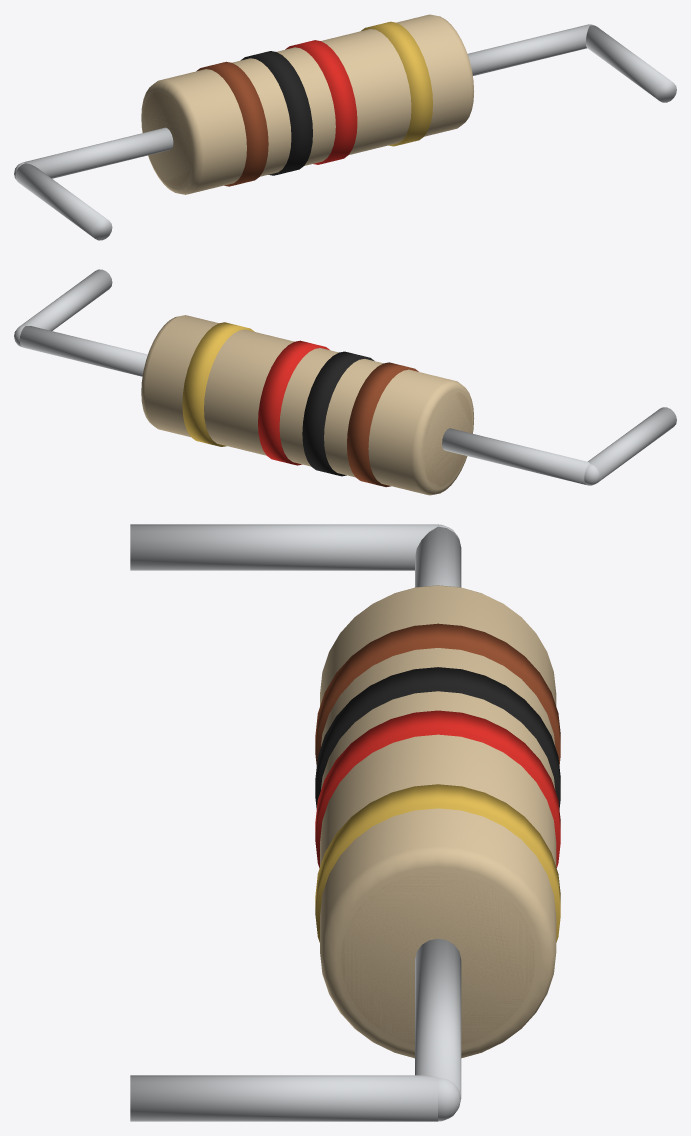
Rendered from resistors.glb.
The picture shows the model from 3 angles, top to bottom: view 1: azimuth 30°, elevation 25°; view 2: azimuth 150°, elevation 25°; view 3: azimuth 270°, elevation 25°; orthographic projection. The views are drawn at different scales.
Visible parts, largest first — view 1: Resistor_Body, Resistor_Lead_Left, Resistor_Band_3, Resistor_Band_1, Resistor_Band_4, Resistor_Band_2, Resistor_Lead_Right, Resistor_Lead_Left_Down, Resistor_Lead_Right_Down, Resistor_EndCap_Left; view 2: Resistor_Body, Resistor_Lead_Left, Resistor_Lead_Right, Resistor_Band_4, Resistor_Band_2, Resistor_Band_1, Resistor_Band_3, Resistor_Lead_Left_Down, Resistor_Lead_Right_Down, Resistor_EndCap_Left; view 3: Resistor_Body, Resistor_EndCap_Right, Resistor_Lead_Right_Down, Resistor_Lead_Left_Down, Resistor_Band_3, Resistor_Band_4, Resistor_Band_1, Resistor_Band_2, Resistor_Lead_Right, Resistor_Lead_Left.
Part boxes in pixels (x1,y1,x2,y2): Resistor_Body: (141,14,474,194); Resistor_Lead_Left: (23,127,173,178); Resistor_Band_3: (285,40,357,164); Resistor_Band_1: (196,61,268,186); Resistor_Band_4: (361,21,432,146); Resistor_Band_2: (240,51,312,175); Resistor_Lead_Right: (467,24,589,75); Resistor_Lead_Left_Down: (15,163,112,240); Resistor_Lead_Right_Down: (585,25,676,102); Resistor_EndCap_Left: (143,91,191,186); Resistor_Body: (141,315,474,495); Resistor_Lead_Left: (442,428,589,484); Resistor_Lead_Right: (19,326,147,376); Resistor_Band_4: (182,322,254,446); Resistor_Band_2: (302,351,374,476); Resistor_Band_1: (347,362,418,487); Resistor_Band_3: (258,340,329,465); Resistor_Lead_Left_Down: (588,407,676,482); Resistor_Lead_Right_Down: (19,269,112,330); Resistor_EndCap_Left: (423,392,471,486); Resistor_Body: (320,585,556,1058); Resistor_EndCap_Right: (340,872,535,1044); Resistor_Lead_Right_Down: (130,1075,437,1121); Resistor_Lead_Left_Down: (130,524,437,570); Resistor_Band_3: (315,710,560,867); Resistor_Band_4: (315,784,560,942); Resistor_Band_1: (315,623,560,765); Resistor_Band_2: (315,667,560,808); Resistor_Lead_Right: (415,938,461,1097); Resistor_Lead_Left: (415,526,461,587).
Size of the model in its own units: 0.0131 by 0.00239 by 0.0042.
